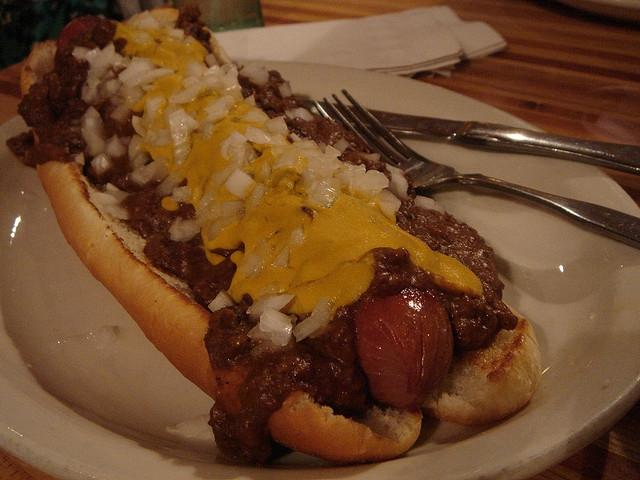onion: (292, 296, 334, 343), (79, 105, 108, 155), (168, 107, 192, 167), (260, 308, 292, 346), (246, 294, 296, 317), (224, 167, 256, 199), (125, 68, 175, 88), (118, 55, 154, 82), (220, 129, 248, 163), (168, 216, 202, 243), (244, 183, 270, 216), (306, 155, 340, 180), (376, 190, 401, 224), (129, 159, 160, 186), (238, 62, 270, 87), (235, 252, 265, 278), (244, 125, 280, 145), (80, 74, 102, 106), (127, 10, 160, 31), (90, 42, 116, 68), (311, 181, 336, 208), (204, 96, 229, 122), (90, 152, 116, 177), (208, 289, 236, 312), (169, 84, 202, 103), (236, 106, 272, 123), (218, 66, 242, 90), (146, 96, 164, 128), (222, 200, 244, 226), (272, 147, 298, 169), (414, 196, 444, 215), (391, 172, 411, 200), (127, 134, 147, 162), (110, 102, 134, 125), (104, 135, 126, 158), (270, 243, 290, 268), (265, 116, 290, 136), (148, 8, 179, 24), (119, 83, 145, 100), (284, 107, 314, 121), (202, 202, 222, 222), (196, 74, 219, 90), (333, 168, 356, 184), (132, 114, 146, 138), (172, 186, 193, 202), (183, 60, 203, 76), (289, 228, 305, 248), (102, 190, 128, 202), (278, 81, 294, 98), (292, 140, 318, 150), (298, 148, 322, 158), (386, 162, 402, 176), (168, 29, 184, 42), (361, 152, 381, 162), (206, 54, 220, 68), (72, 48, 88, 60), (272, 133, 288, 145), (325, 145, 341, 156), (182, 35, 198, 44)
